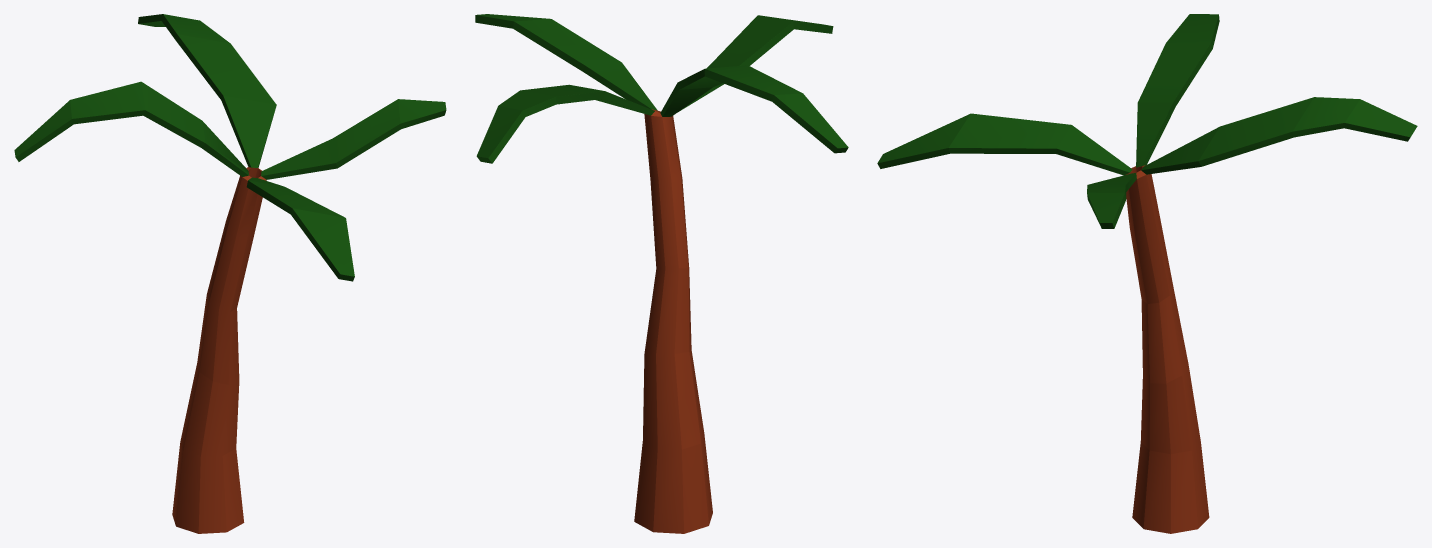
Rendered from Plage_Palmier_v1_001.FBX.
The picture shows the model from 3 angles, left to right: view 1: azimuth 30°, elevation 25°; view 2: azimuth 150°, elevation 25°; view 3: azimuth 270°, elevation 25°; orthographic projection. The views are drawn at different scales.
Parts seen in each view (by area): view 1: Palmier038; view 2: Palmier038; view 3: Palmier038.
Part boxes in pixels (x1,y1,x2,y2): Palmier038: (14,14,446,533); Palmier038: (475,14,848,533); Palmier038: (877,14,1417,533).
Size of the model in its own units: 132 by 143 by 155.
